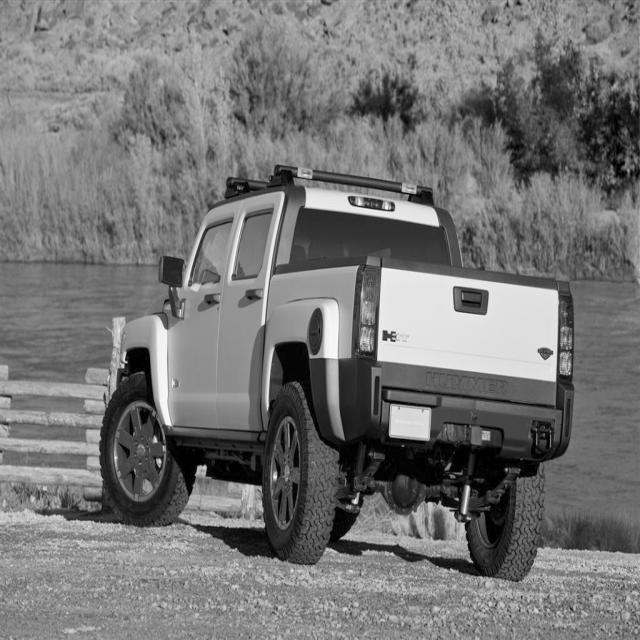car: (98, 163, 575, 581)
